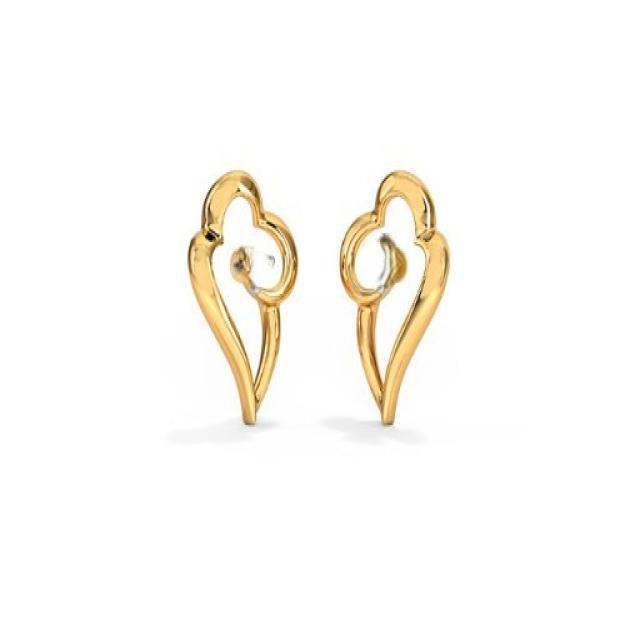missing gem: (355, 243, 395, 291), (245, 248, 281, 294)
